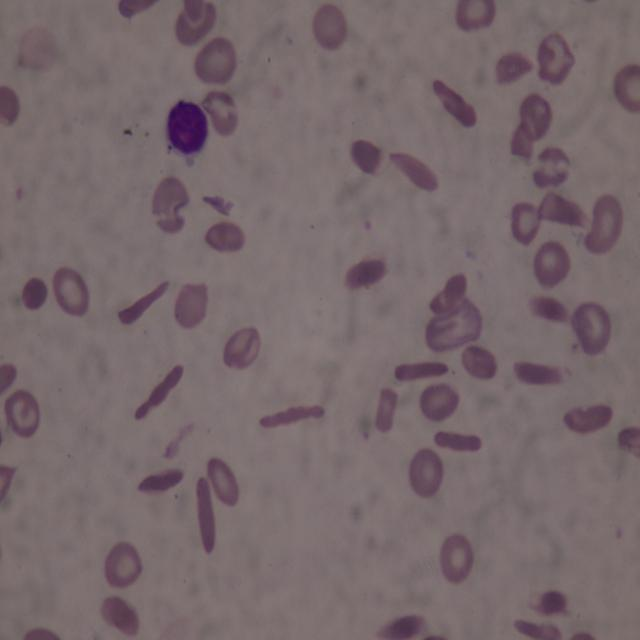Crystal: (433, 79, 480, 130), (194, 474, 219, 556), (562, 402, 613, 433), (374, 613, 432, 640), (342, 256, 390, 288), (393, 359, 451, 383), (513, 360, 563, 386), (527, 298, 575, 324), (433, 429, 483, 452)
Normal: (438, 531, 473, 585), (408, 448, 445, 499), (533, 240, 571, 289), (612, 60, 640, 117)
Others: (424, 295, 484, 354), (167, 100, 208, 167), (583, 194, 623, 254), (536, 189, 591, 230), (571, 299, 611, 354), (538, 28, 576, 85), (152, 178, 189, 234), (176, 0, 220, 47), (52, 265, 90, 319), (105, 539, 144, 590), (194, 36, 235, 84), (200, 85, 237, 137), (206, 454, 241, 507), (427, 271, 466, 314), (532, 146, 570, 189), (172, 282, 208, 327), (518, 91, 551, 140), (5, 388, 39, 435), (100, 596, 139, 636), (420, 383, 461, 421), (311, 6, 347, 49), (454, 1, 497, 32), (222, 329, 256, 368), (494, 54, 534, 86), (512, 202, 542, 244), (204, 222, 245, 252), (351, 137, 381, 177), (375, 385, 399, 435), (461, 346, 497, 378), (510, 121, 538, 162), (530, 590, 568, 618), (22, 278, 49, 312), (117, 0, 161, 20), (200, 194, 235, 217), (0, 85, 18, 126), (181, 0, 206, 26), (23, 624, 63, 640), (616, 427, 638, 455), (0, 360, 15, 395), (1, 461, 15, 498), (568, 627, 595, 640)
Sickle: (132, 362, 184, 422), (116, 278, 171, 326), (388, 150, 441, 194), (258, 402, 326, 428), (134, 466, 184, 494), (512, 618, 564, 640)
